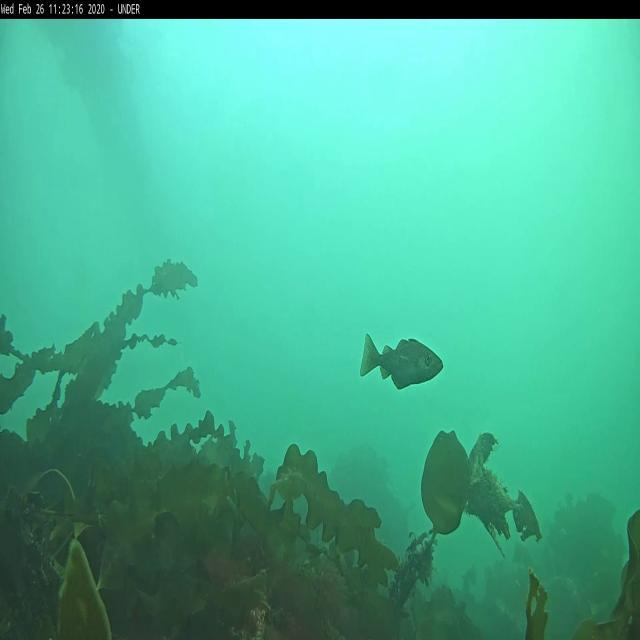fish: (362, 329, 443, 389)
